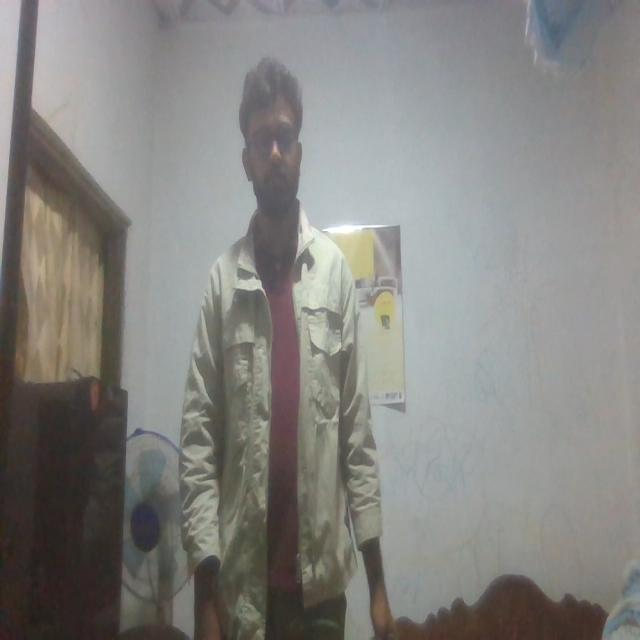Jacket_Wearer: (178, 224, 384, 597)
Person: (178, 65, 388, 640)
